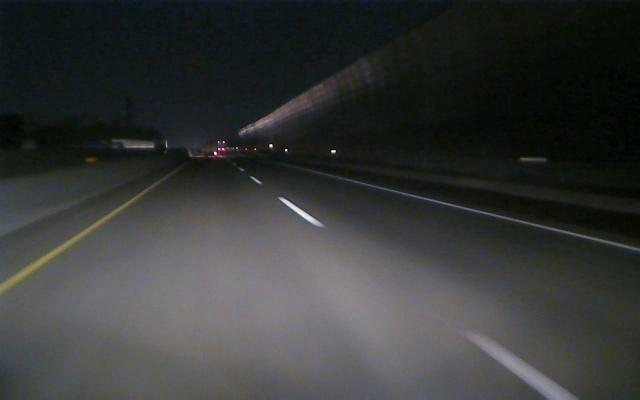lane: (274, 195, 583, 400), (325, 173, 639, 253), (2, 184, 156, 293)
